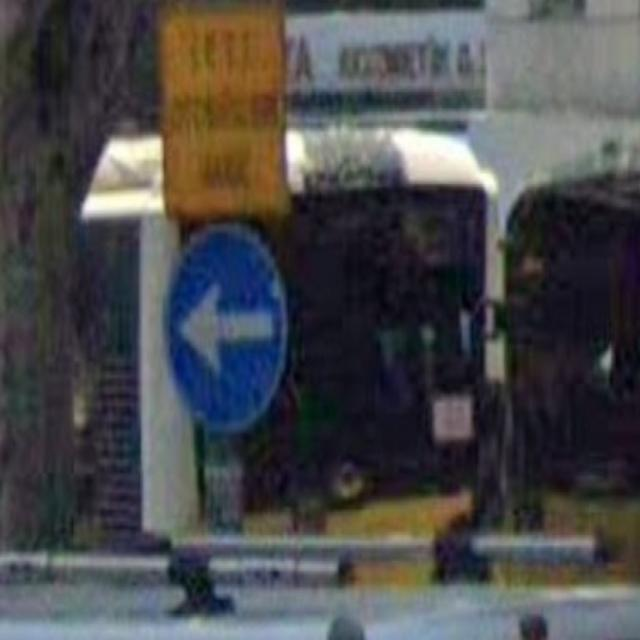Turn Left: (170, 234, 286, 428)
